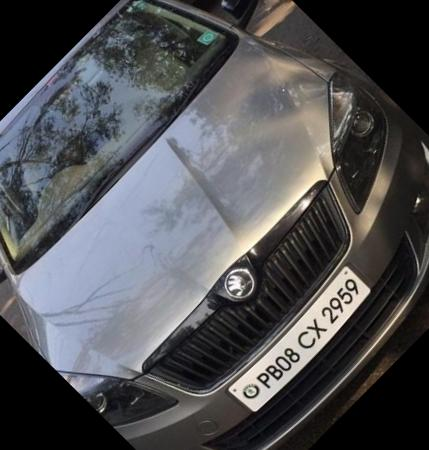plate: (204, 240, 401, 438)
